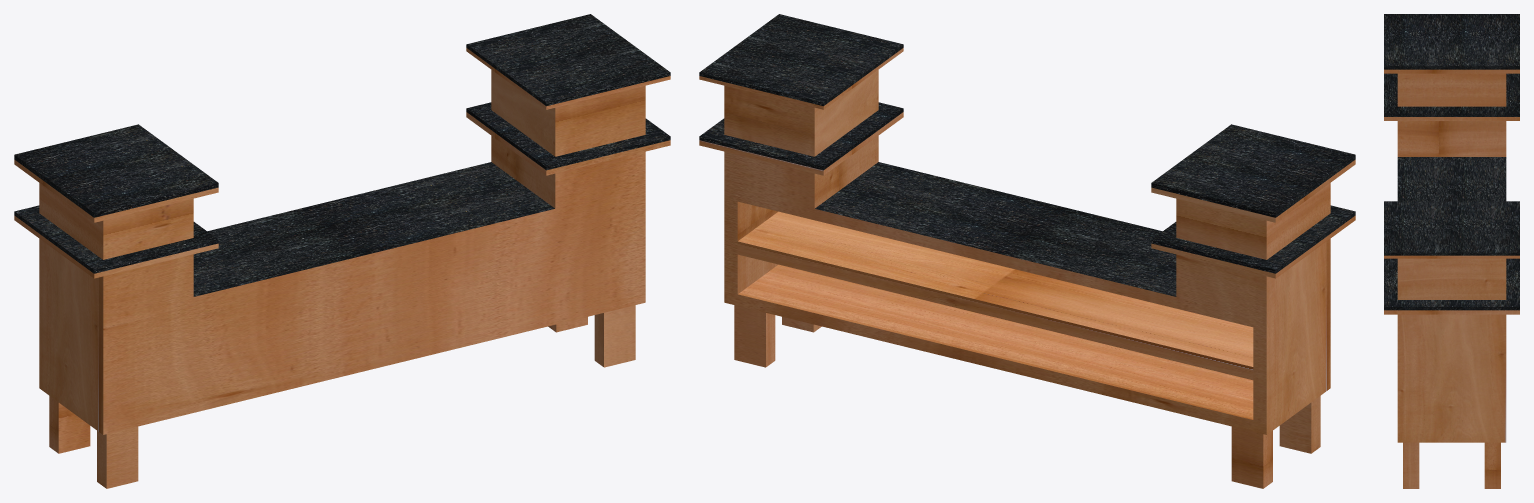
Rendered from Base_Tele.obj.
The picture shows the model from 3 angles, left to right: view 1: azimuth 30°, elevation 25°; view 2: azimuth 150°, elevation 25°; view 3: azimuth 270°, elevation 25°; orthographic projection. The views are drawn at different scales.
Parts seen in each view (by area): view 1: Cuadro:pCube5; view 2: Cuadro:pCube5; view 3: Cuadro:pCube5.
Part boxes in pixels (box(x1,y1,x2,y2)): Cuadro:pCube5: box(14, 14, 670, 488); Cuadro:pCube5: box(699, 14, 1355, 488); Cuadro:pCube5: box(1384, 14, 1519, 488).
Size of the model in its own units: 1.53 by 0.7333 by 0.3667.
2 materials, 2 textured.
